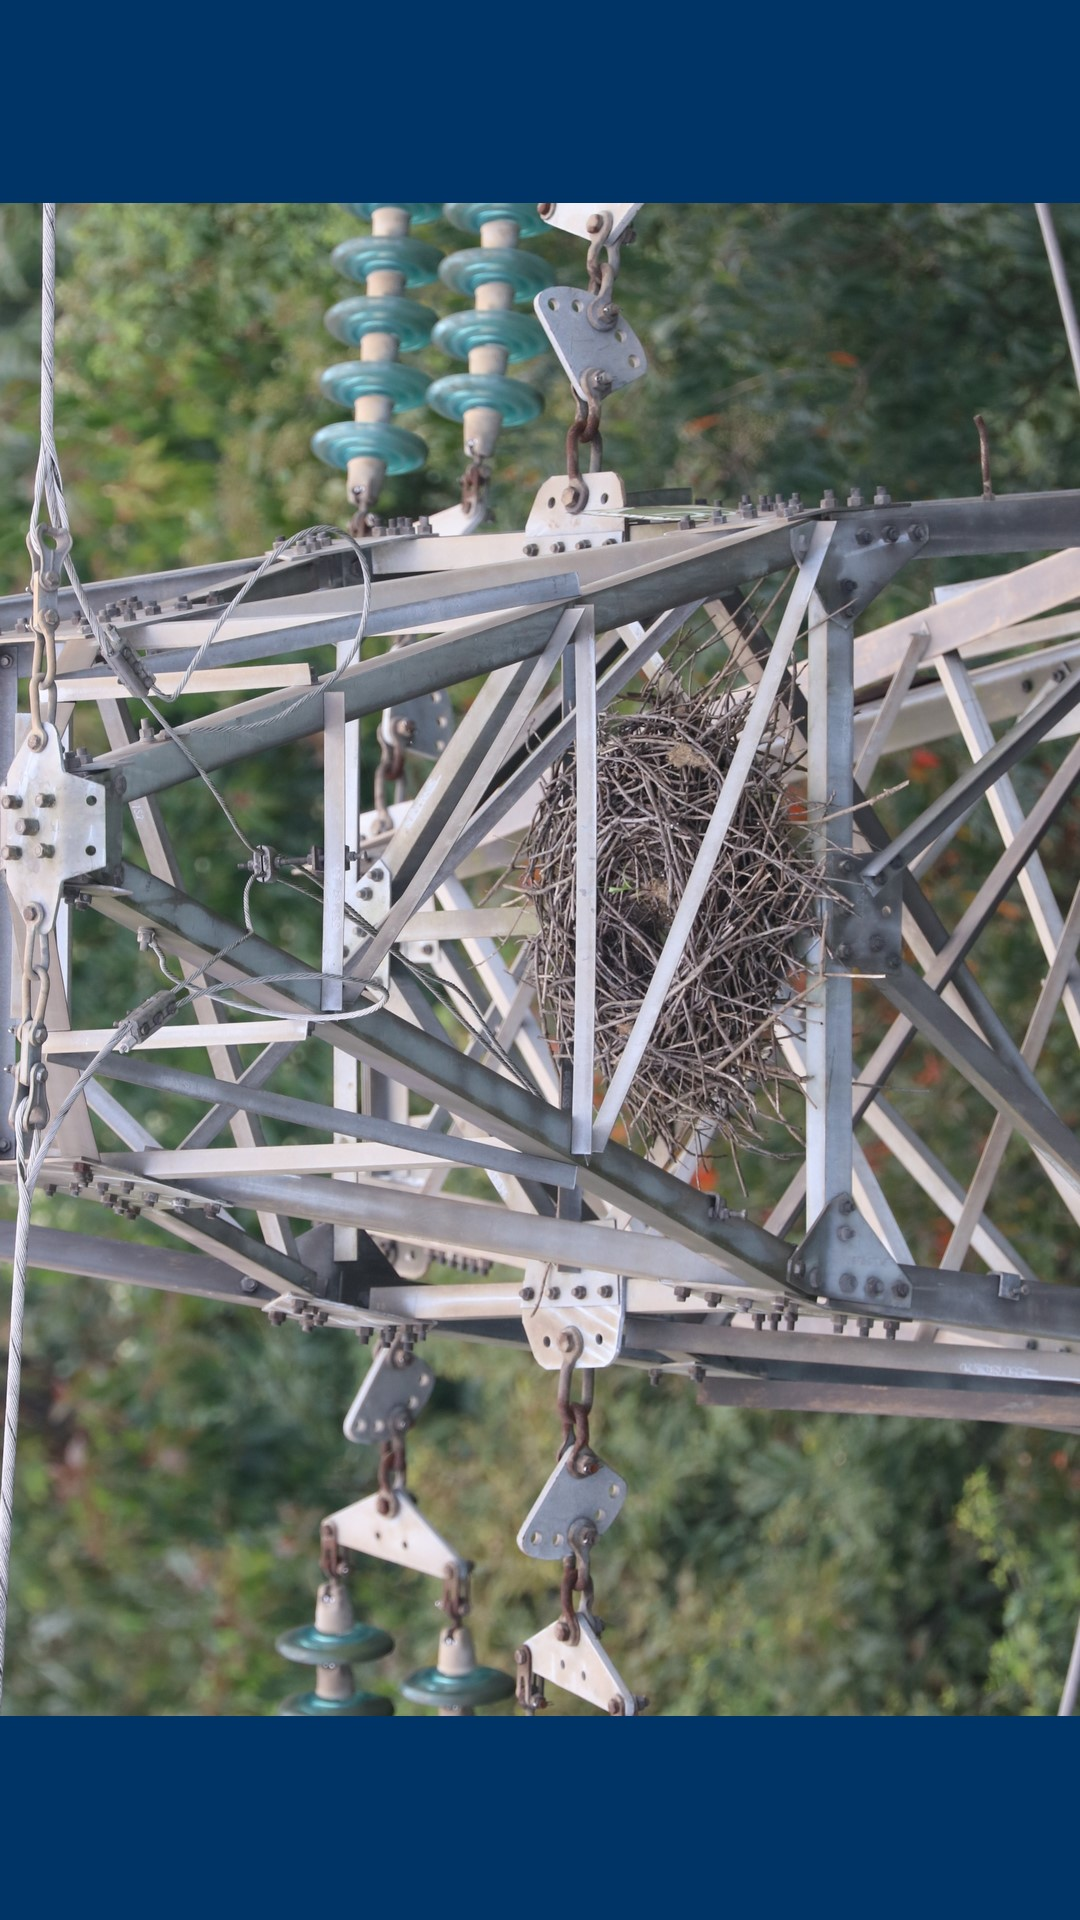niaowo: (483, 700, 855, 1126)
